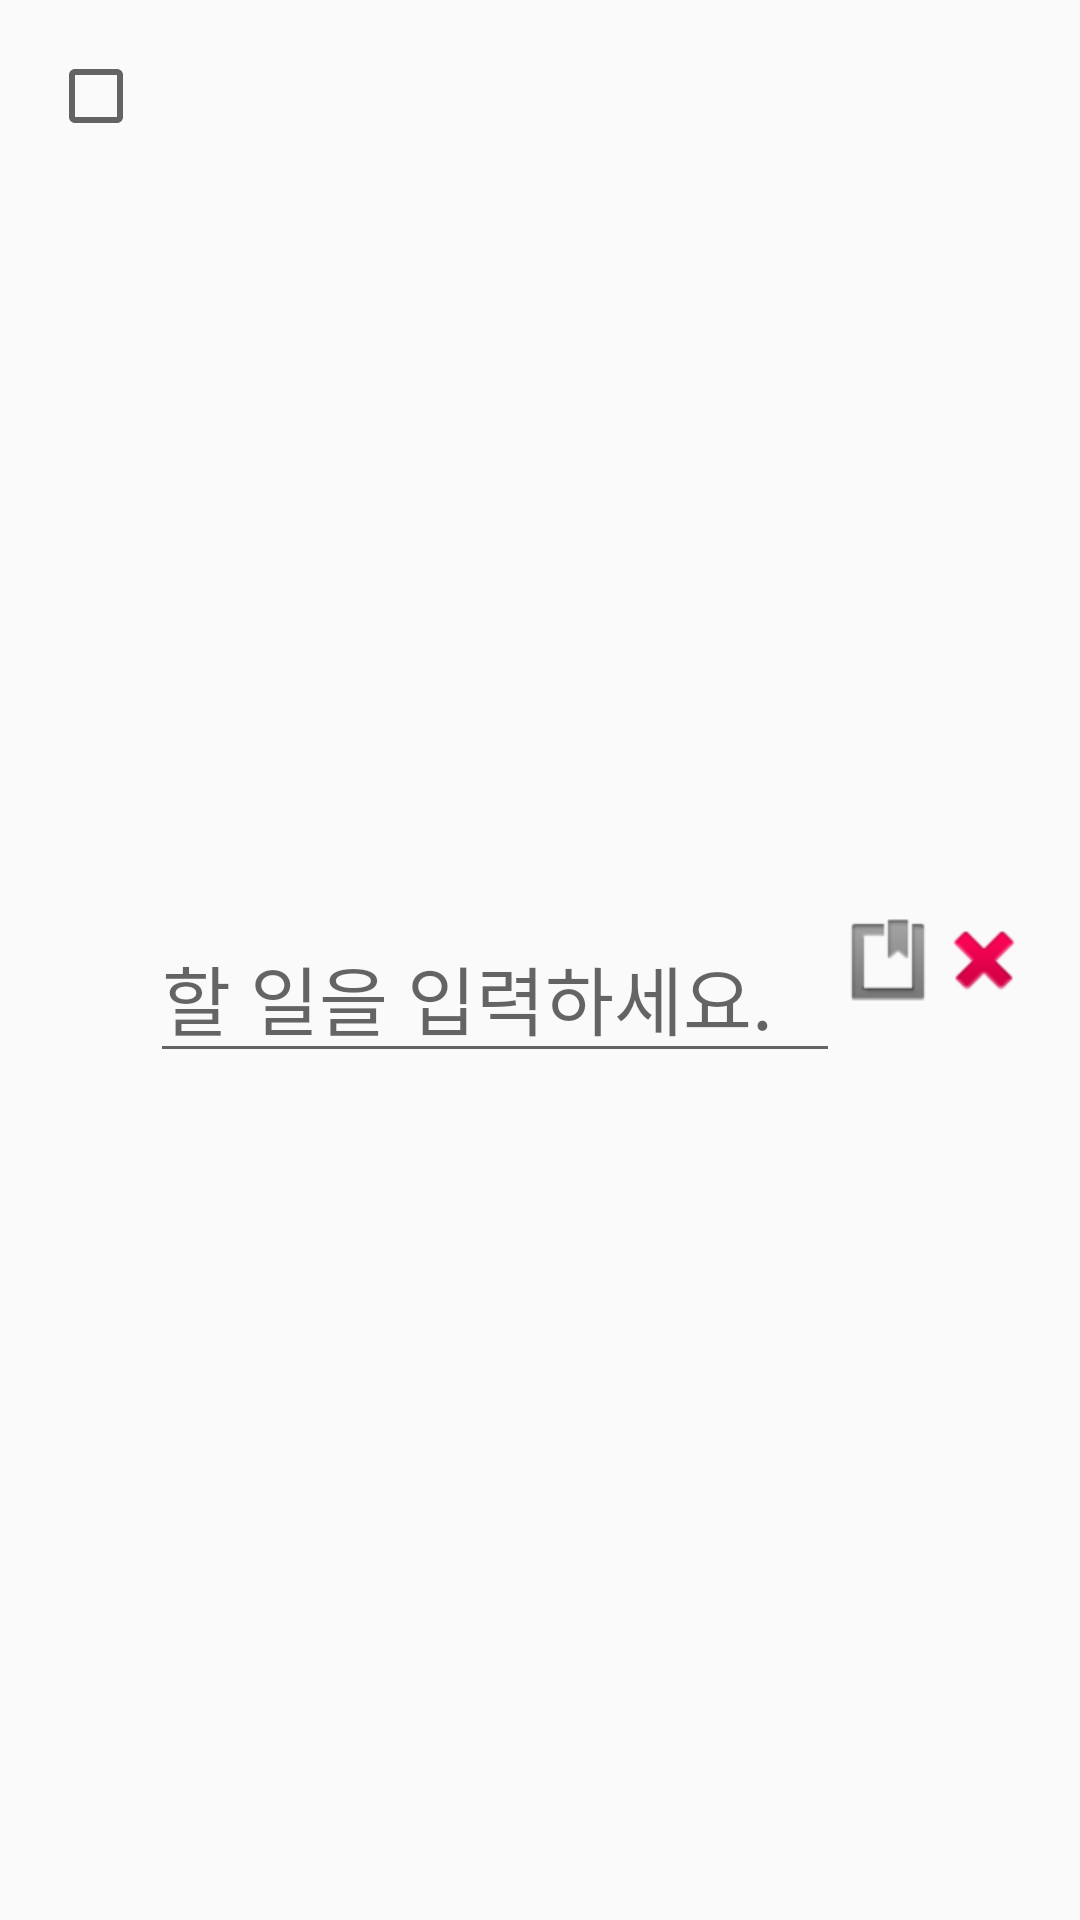

Screen size 1080*1920. Icon name, then its box in pixels as (x1, y1, x2, y2):
delete: (953, 931, 1015, 990)
